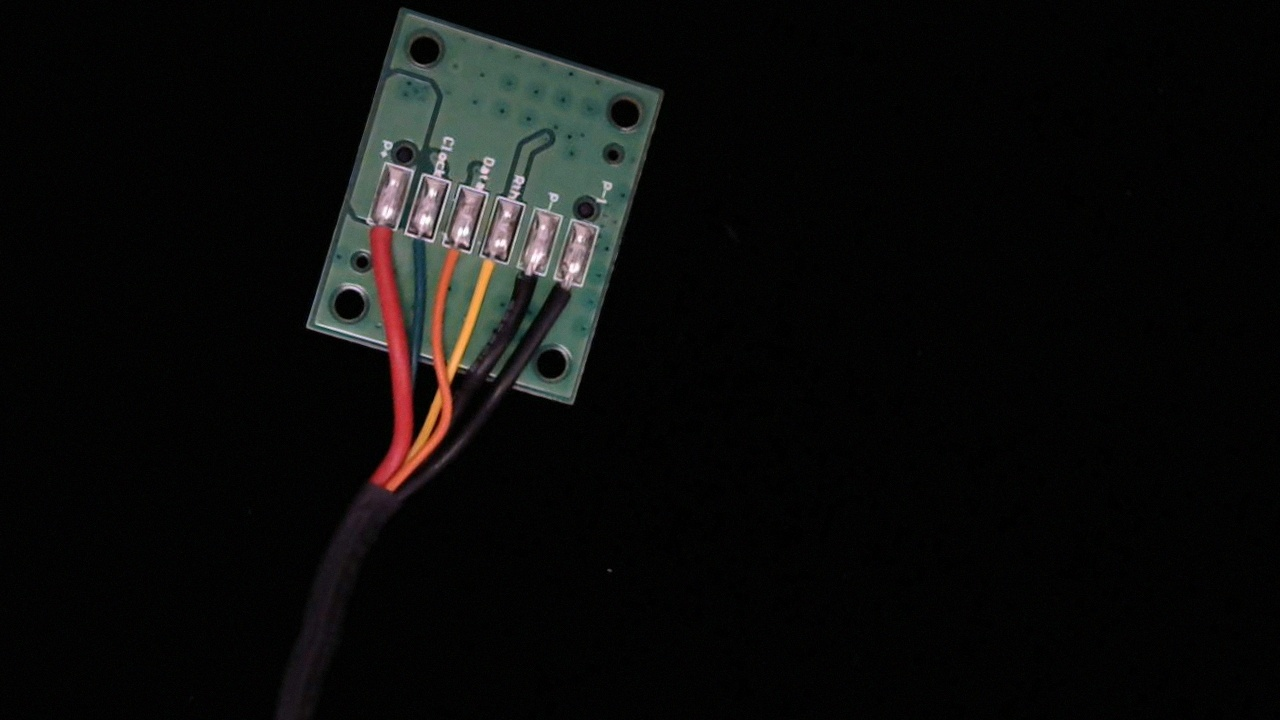Black: (501, 251, 551, 318)
Black1: (538, 262, 588, 330)
Green: (392, 217, 440, 273)
Orange: (428, 228, 474, 287)
Red: (355, 204, 402, 260)
Yellow: (463, 239, 516, 302)
